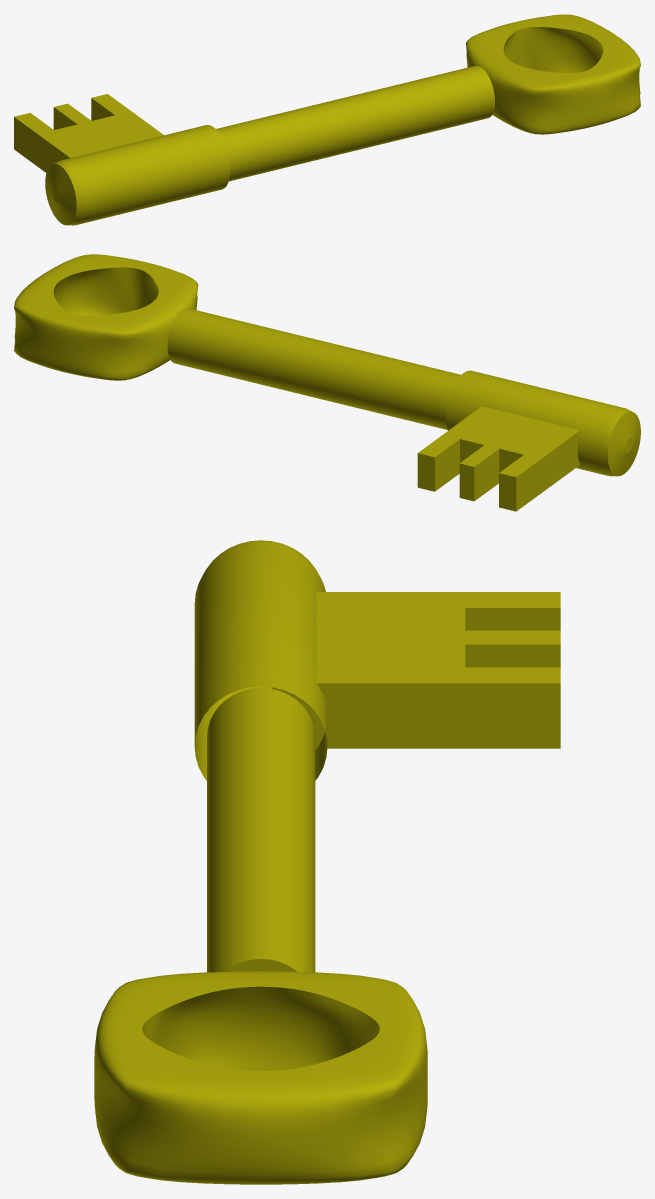
File: key.fbx
3 views of the same model, one above another, from view 1: azimuth 30°, elevation 25°; view 2: azimuth 150°, elevation 25°; view 3: azimuth 270°, elevation 25° (orthographic). The views are drawn at different scales.
Visible parts, largest first — view 1: BODY___; view 2: BODY___; view 3: BODY___.
Boxes of the visible parts, left/top/right/bottom form: BODY___: left=14, top=14, right=640, bottom=225; BODY___: left=14, top=254, right=640, bottom=511; BODY___: left=94, top=540, right=560, bottom=1184.
Bounding box in the file's own units: 364 × 36.84 × 129.
